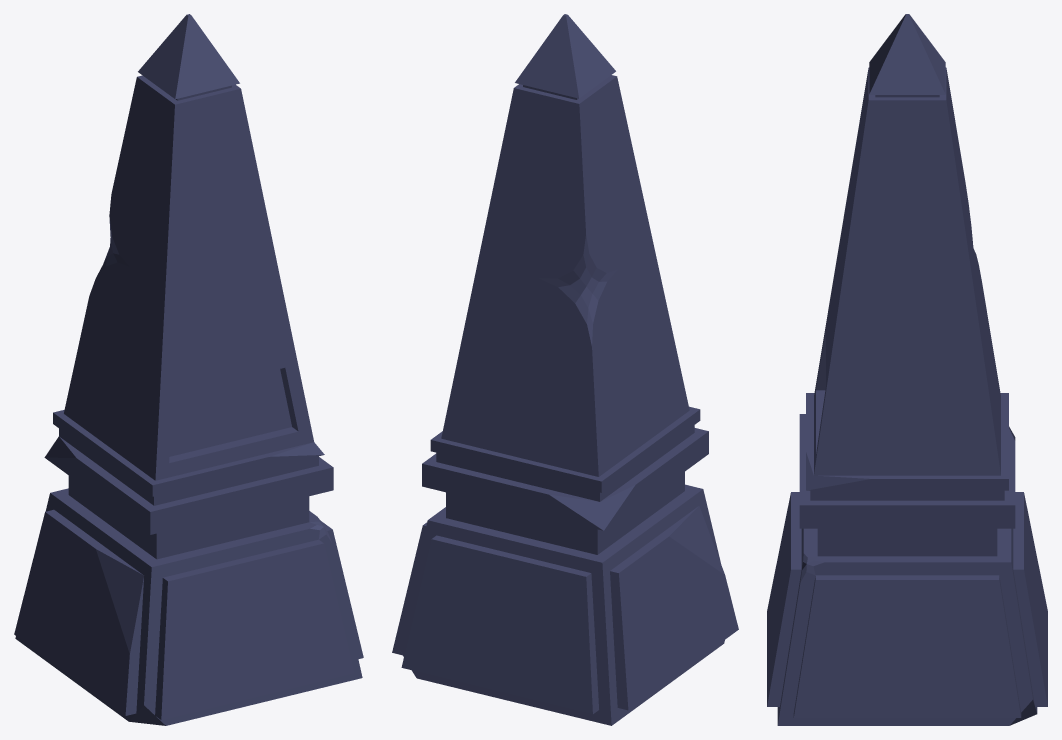
File: Stone4.fbx
3 views of the same model, side by side, from view 1: azimuth 30°, elevation 25°; view 2: azimuth 150°, elevation 25°; view 3: azimuth 270°, elevation 25° (orthographic). The views are drawn at different scales.
Parts seen in each view (by area): view 1: stone4; view 2: stone4; view 3: stone4.
Boxes of the visible parts, x1,y1,x2,y2 form: stone4: (14,14,363,725); stone4: (392,14,738,725); stone4: (767,14,1047,725).
Bounding box in the file's own units: 216 × 558 × 216.
